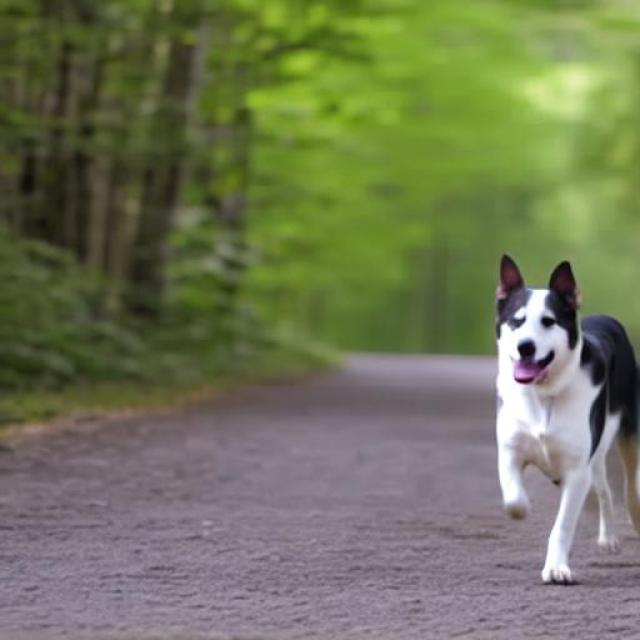Dog: (496, 252, 640, 582)
